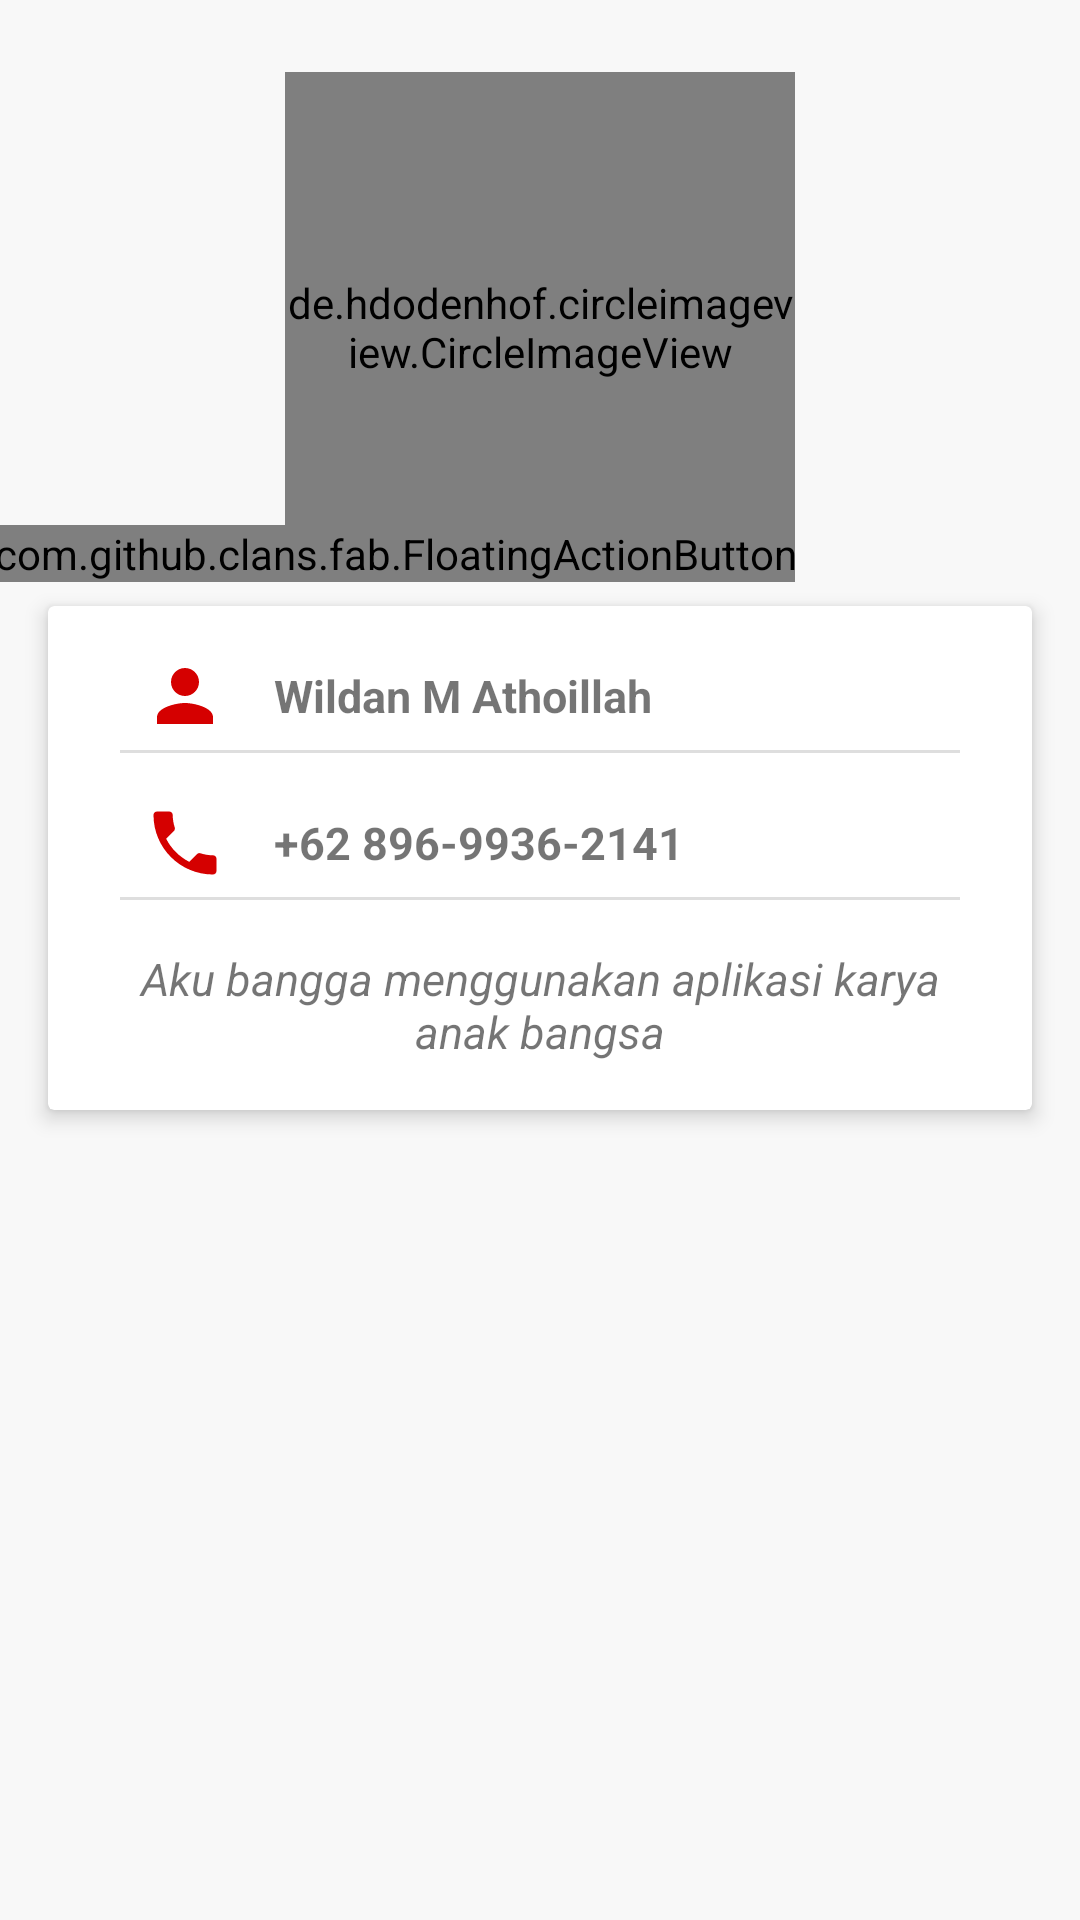

Icon click points for this 1080x1920 phone screenshot, format (x=x, y=y):
person: (x=185, y=696)
